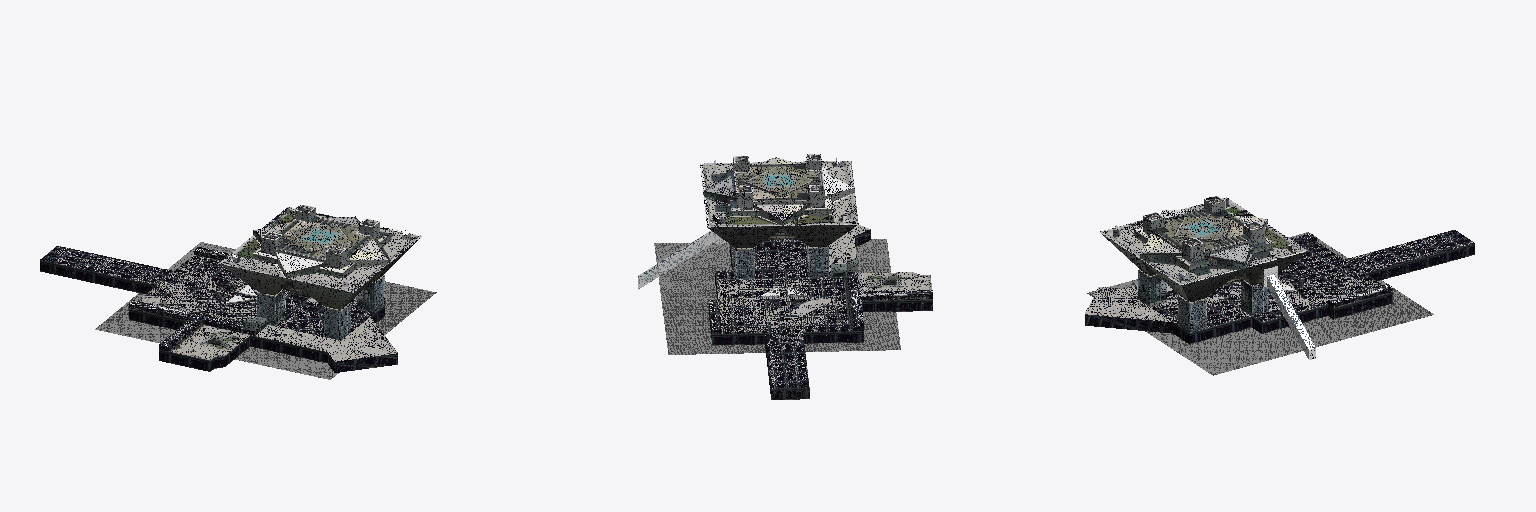
3 views of the same model, side by side, from view 1: azimuth 30°, elevation 25°; view 2: azimuth 150°, elevation 25°; view 3: azimuth 270°, elevation 25° (orthographic).
Visible parts, largest first — view 1: Mesh2 bigsight_2_1 Model, Mesh1 Google_Earth_Snapshot bigsight_2_1 Model; view 2: Mesh2 bigsight_2_1 Model, Mesh1 Google_Earth_Snapshot bigsight_2_1 Model; view 3: Mesh2 bigsight_2_1 Model, Mesh1 Google_Earth_Snapshot bigsight_2_1 Model.
Boxes of the visible parts, box(x1,y1,x2,y2) form: Mesh2 bigsight_2_1 Model: box(40, 205, 421, 372); Mesh1 Google_Earth_Snapshot bigsight_2_1 Model: box(95, 242, 436, 379); Mesh2 bigsight_2_1 Model: box(638, 154, 932, 399); Mesh1 Google_Earth_Snapshot bigsight_2_1 Model: box(654, 239, 900, 354); Mesh2 bigsight_2_1 Model: box(1085, 196, 1474, 359); Mesh1 Google_Earth_Snapshot bigsight_2_1 Model: box(1087, 232, 1433, 375).
Bounding box in the file's own units: 217 × 67.36 × 249.
Materials: 82 (70 with a texture image).